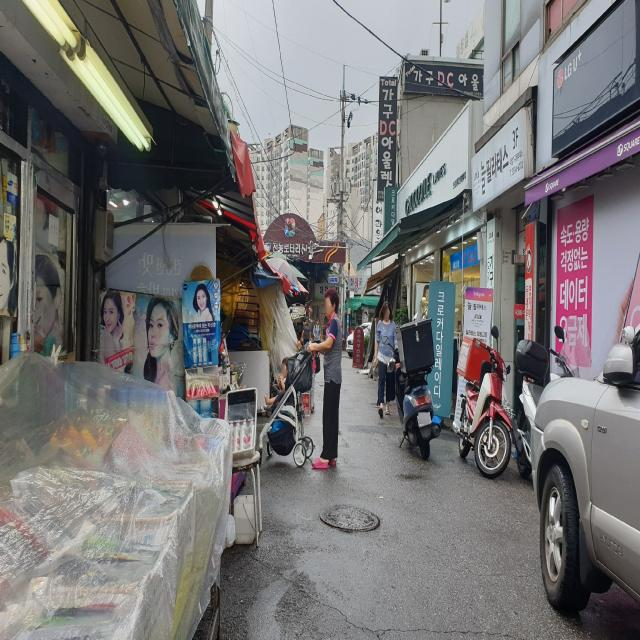car: (531, 324, 640, 626)
motorbike: (453, 325, 514, 478), (382, 318, 441, 462)
